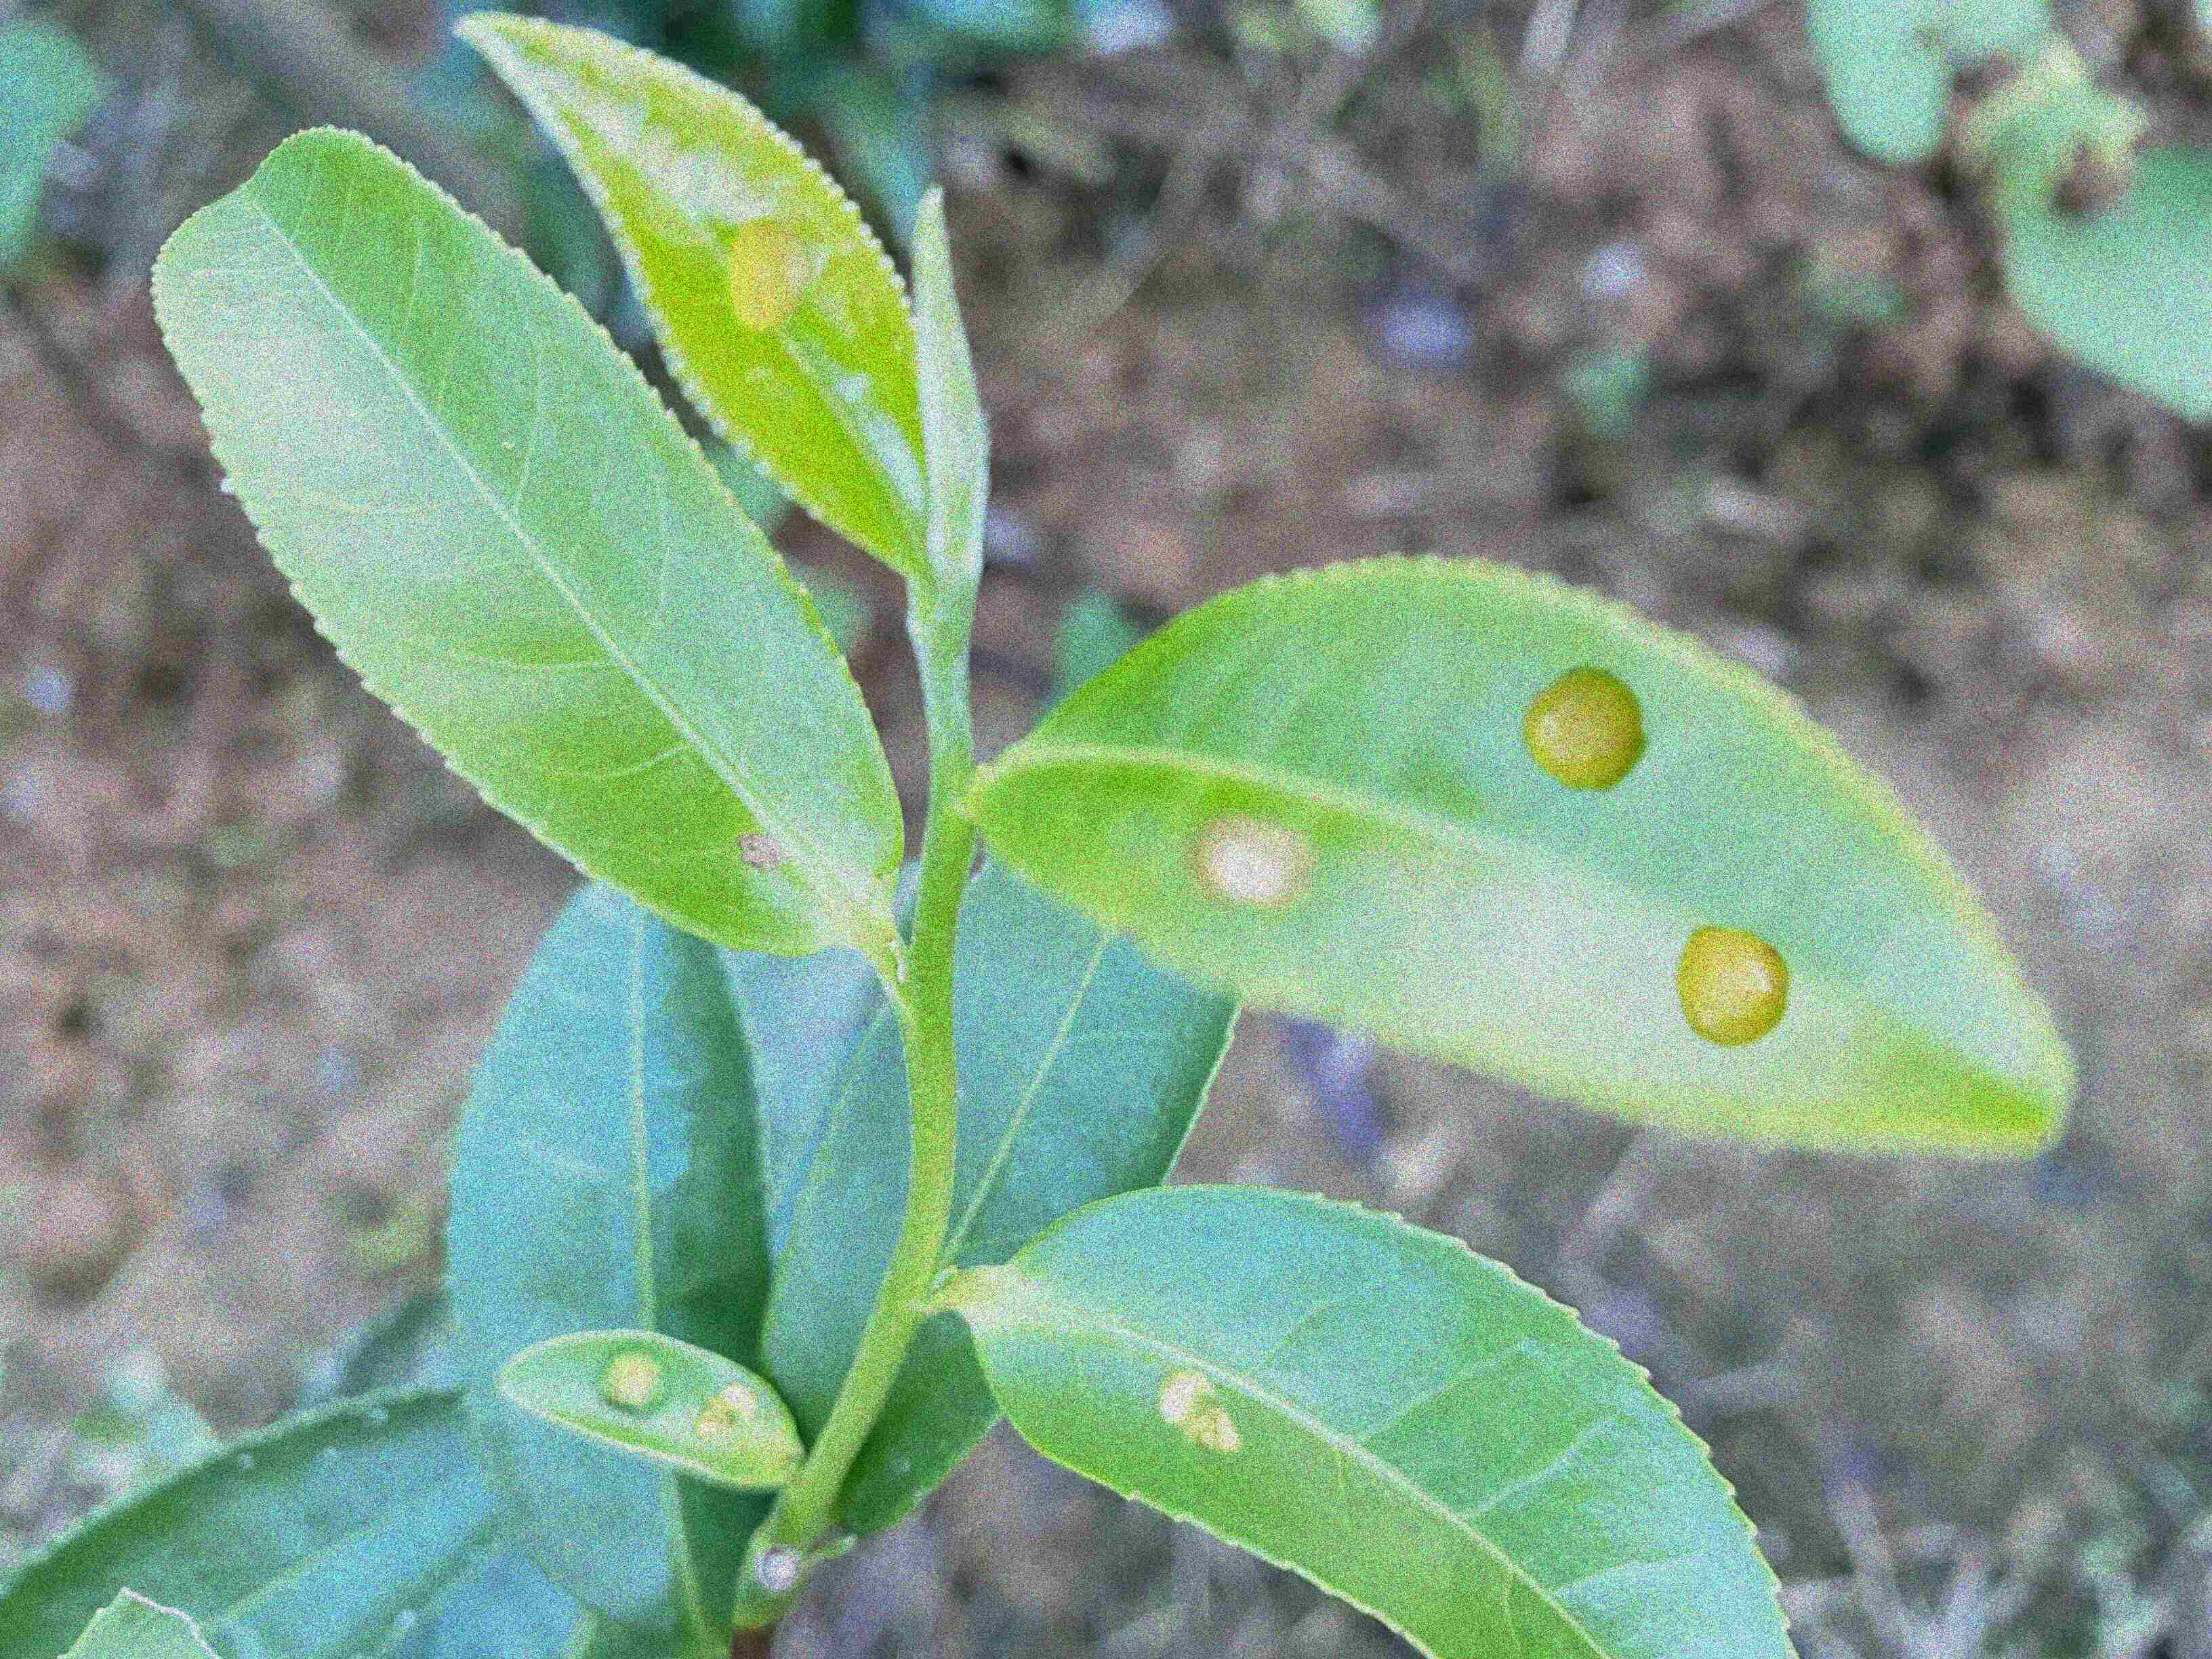chabing_high: (975, 545, 2066, 1162), (498, 1331, 805, 1486)
chabing_low: (968, 1183, 1804, 1657), (451, 9, 932, 573)
tanju_low: (152, 120, 911, 962)
